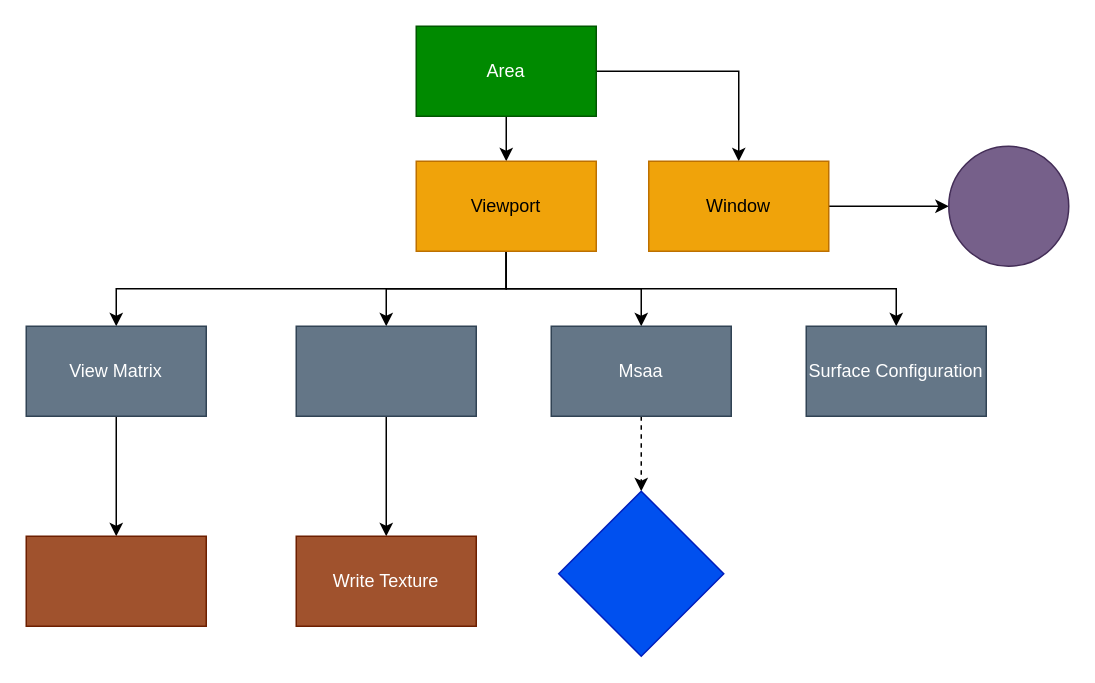
This 1095x683 diagram has some shape labels left out. Here are the shapes that lost their labels. From the top down, the centre of each, then its label:
At (x=1008, y=205): "Notify Compositor".
At (x=385, y=370): "Depth".
At (x=115, y=580): "GPU Uniform".
At (x=640, y=573): "Msaa Render Attachment".
